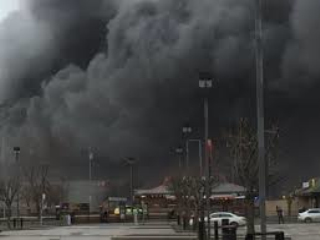smoke: (3, 11, 292, 189)
